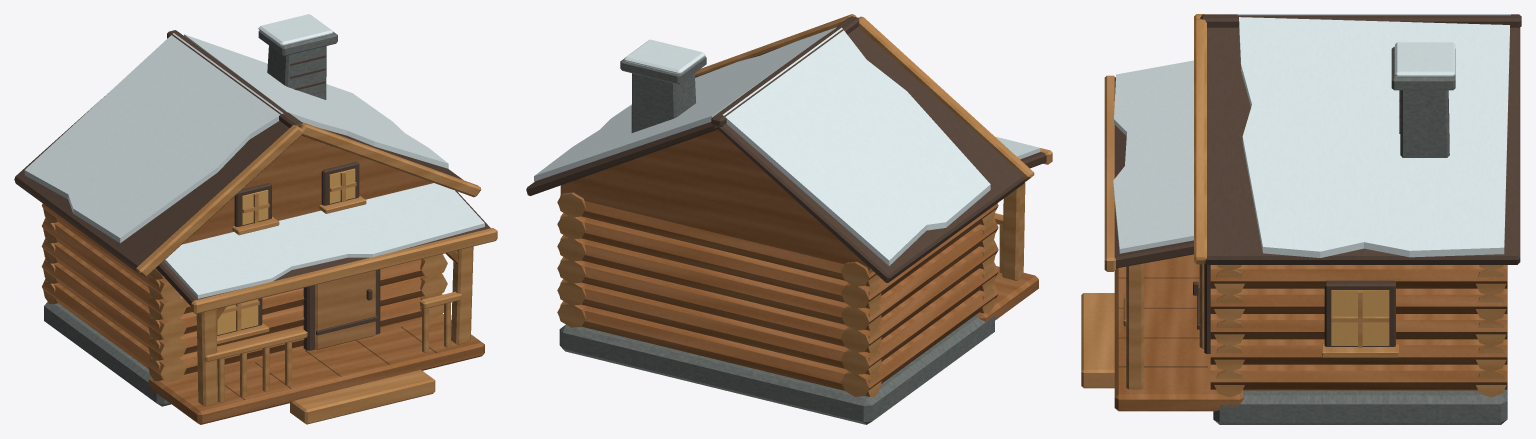
The model's file is Cabin_B_WideLodge.fbx.
3 views of the same model, side by side, from view 1: azimuth 30°, elevation 25°; view 2: azimuth 150°, elevation 25°; view 3: azimuth 270°, elevation 25° (orthographic). The views are drawn at different scales.
Parts seen in each view (by area): view 1: Cabin_B_WideLodge; view 2: Cabin_B_WideLodge; view 3: Cabin_B_WideLodge.
Part boxes in pixels (x1,y1,x2,y2): Cabin_B_WideLodge: [14, 14, 497, 424]; Cabin_B_WideLodge: [526, 14, 1052, 424]; Cabin_B_WideLodge: [1081, 14, 1521, 424].
Bounding box in the file's own units: 7.38 × 5.48 × 6.61.
